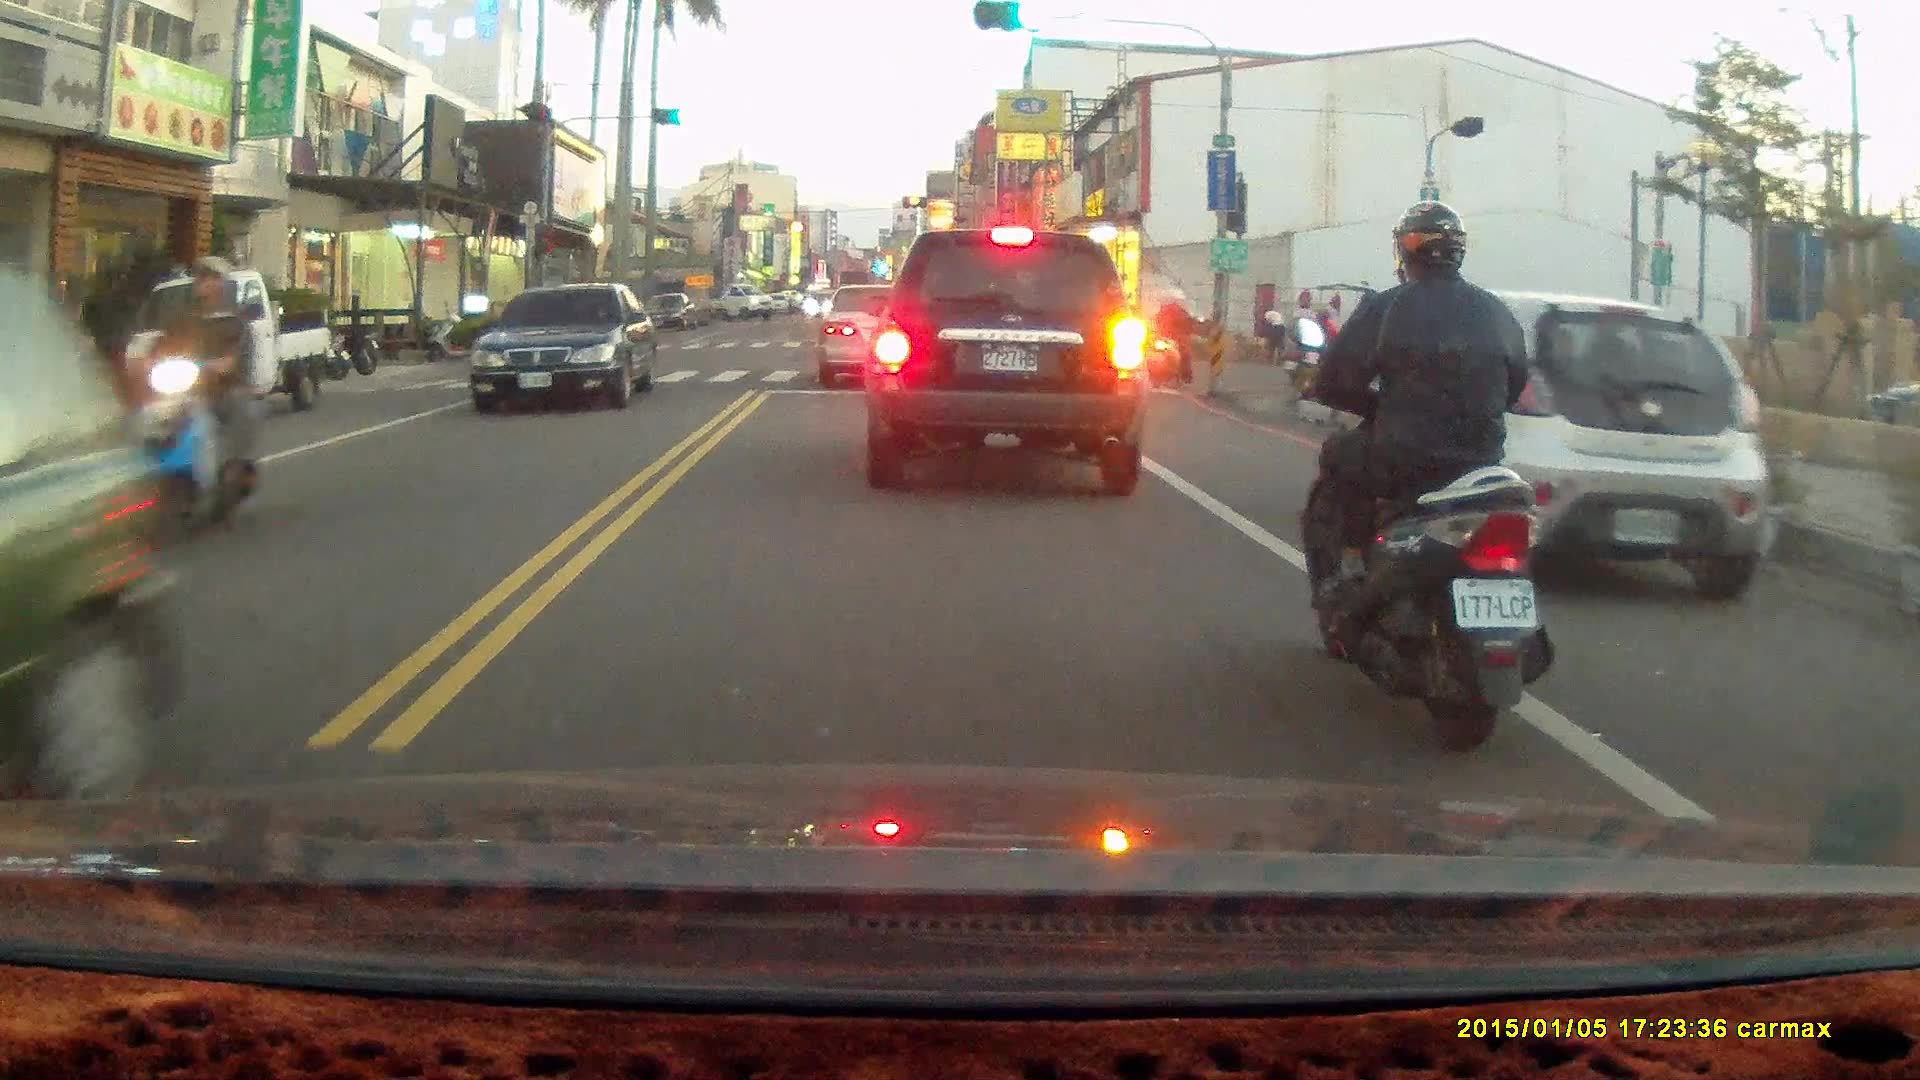pedestrian: (1257, 301, 1286, 366)
rider: (1281, 198, 1553, 752), (131, 254, 259, 548), (1141, 289, 1204, 389), (1281, 302, 1353, 386)
vehicle: (1345, 291, 1780, 601), (1, 261, 198, 802), (863, 224, 1149, 497), (118, 268, 336, 420), (473, 281, 659, 412), (816, 282, 938, 392)
